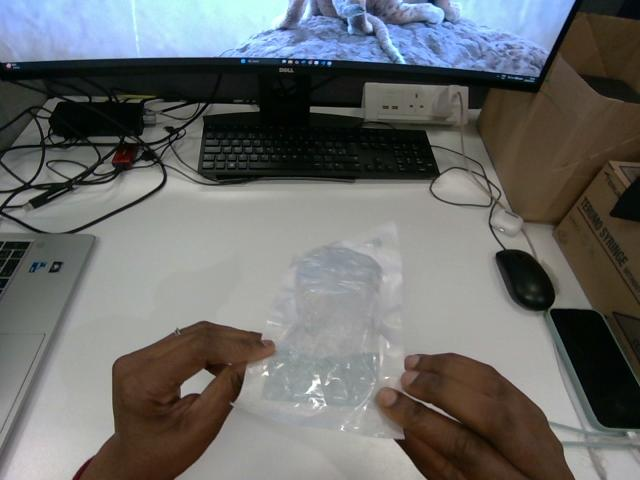gallipot: (235, 223, 403, 437)
